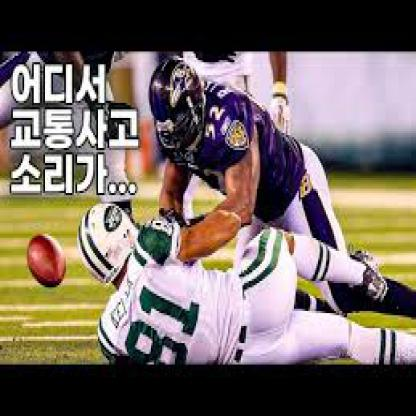Fall_Down: (74, 206, 414, 367)
